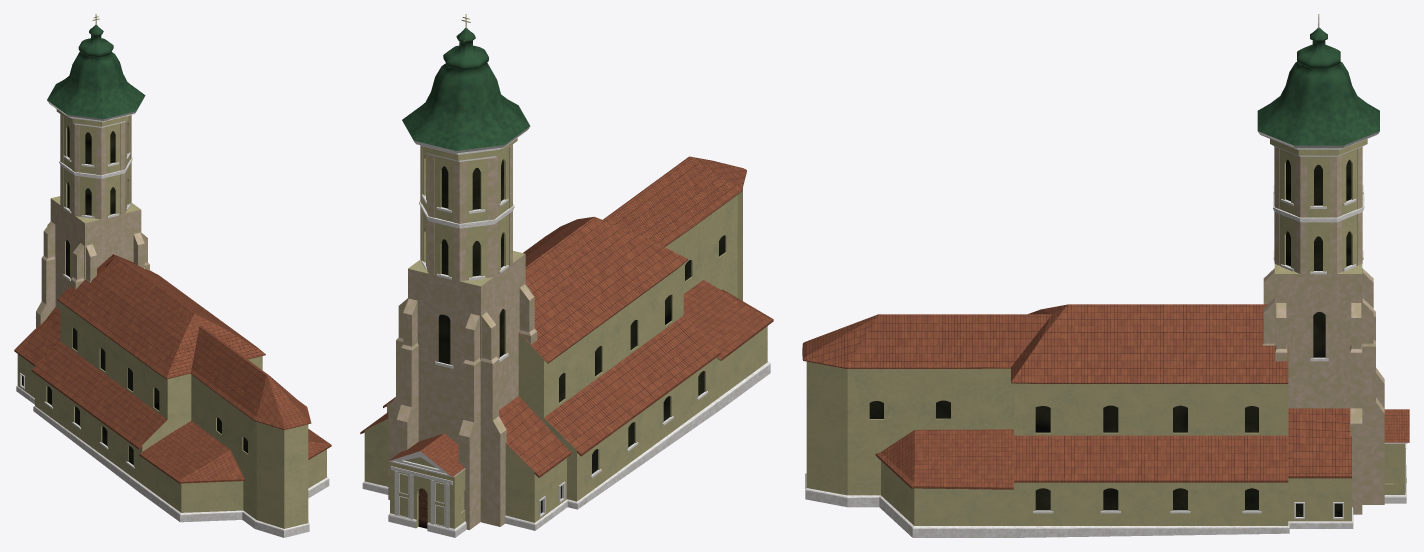
The model's file is MMChurch.glb.
3 views of the same model, side by side, from view 1: azimuth 30°, elevation 25°; view 2: azimuth 150°, elevation 25°; view 3: azimuth 270°, elevation 25° (orthographic). The views are drawn at different scales.
Parts seen in each view (by area): view 1: Nave, Tower, Tower.Roof, Pillars; view 2: Nave, Pillars, Tower, Tower.Roof, Friese; view 3: Nave, Tower, Tower.Roof, Pillars.
Part boxes in pixels (x1,y1,x2,y2): Nave: [14, 196, 331, 537]; Tower: [47, 97, 144, 219]; Tower.Roof: [47, 25, 145, 118]; Pillars: [36, 221, 149, 327]; Nave: [360, 156, 773, 537]; Pillars: [388, 284, 537, 530]; Tower: [406, 126, 529, 281]; Tower.Roof: [402, 28, 529, 150]; Friese: [390, 466, 452, 528]; Nave: [802, 264, 1409, 537]; Tower: [1258, 131, 1379, 274]; Tower.Roof: [1257, 27, 1379, 145]; Pillars: [1262, 268, 1384, 514].
Size of the model in its own units: 3.45 by 8.09 by 9.33.
7 materials, 7 textured.
